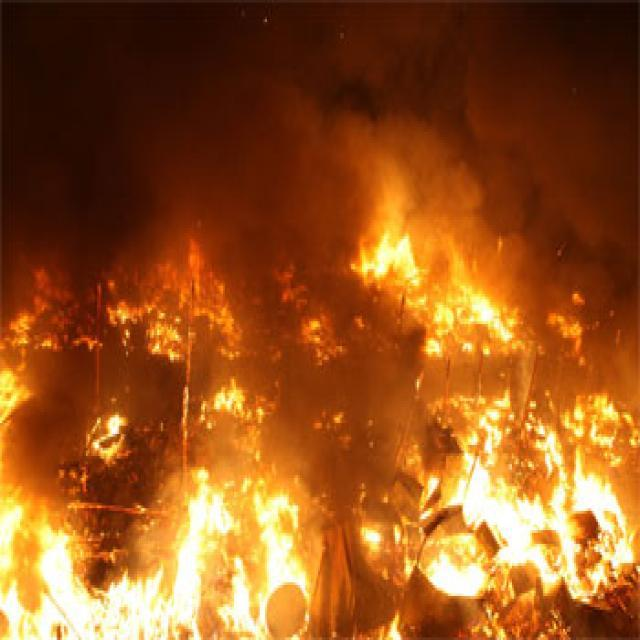Fire: (0, 200, 640, 640)
Smoke: (0, 0, 640, 198)
